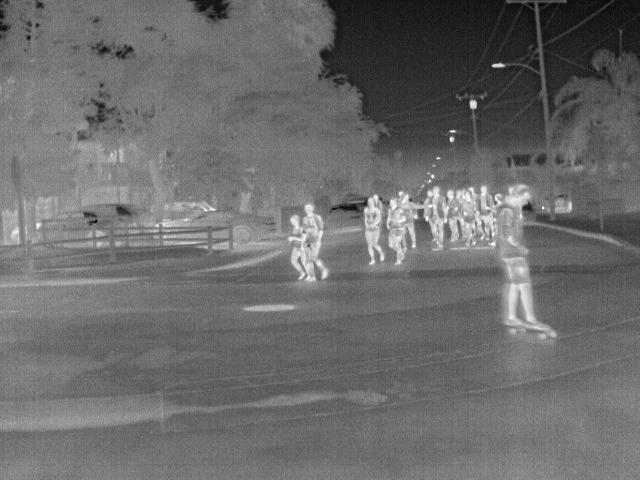car: (80, 202, 156, 228), (232, 210, 278, 243), (324, 200, 364, 232), (166, 197, 218, 221), (187, 208, 230, 226)
person: (497, 185, 547, 331), (299, 201, 332, 281), (362, 195, 386, 266), (388, 197, 410, 264), (288, 212, 308, 281), (428, 184, 447, 246), (401, 192, 420, 248), (477, 184, 495, 239), (444, 191, 462, 244)
